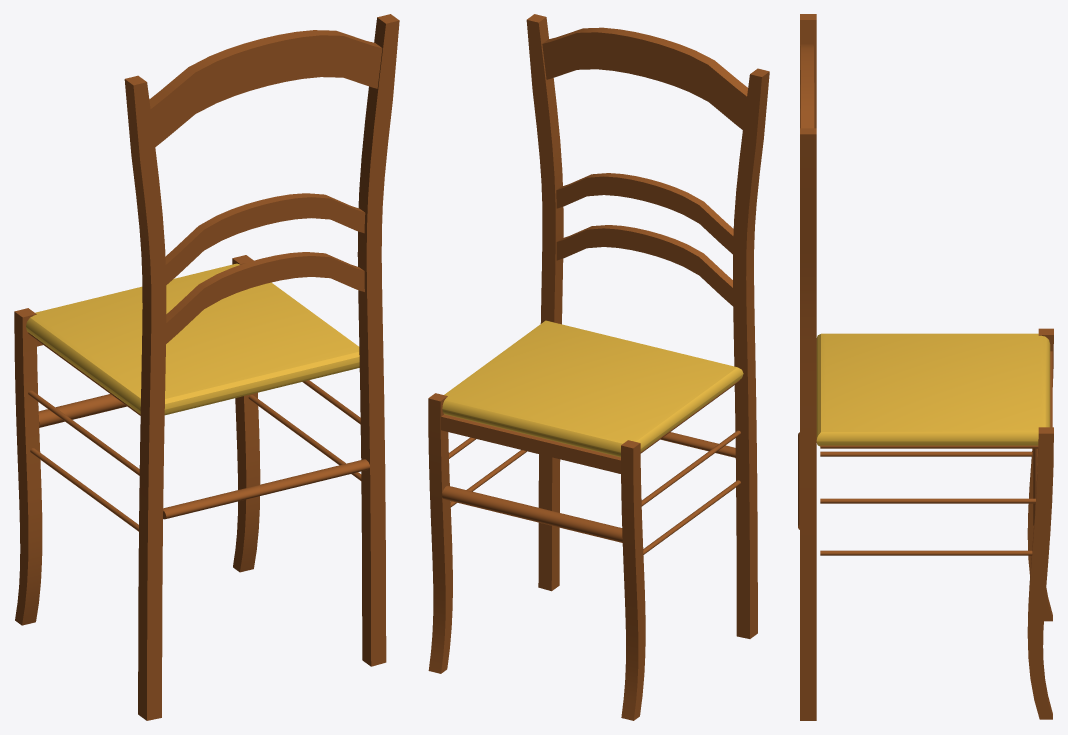
Rendered from Chaise_Compaq.glb.
3 views of the same model, side by side, from view 1: azimuth 30°, elevation 25°; view 2: azimuth 150°, elevation 25°; view 3: azimuth 270°, elevation 25° (orthographic). The views are drawn at different scales.
Visible parts, largest first — view 1: Cube.003; view 2: Cube.003; view 3: Cube.003.
Boxes of the visible parts, bbox=[...] form: Cube.003: bbox=[14, 14, 399, 720]; Cube.003: bbox=[428, 14, 769, 720]; Cube.003: bbox=[798, 14, 1053, 720].
Bounding box in the file's own units: 0.4195 × 0.9753 × 0.3766.
